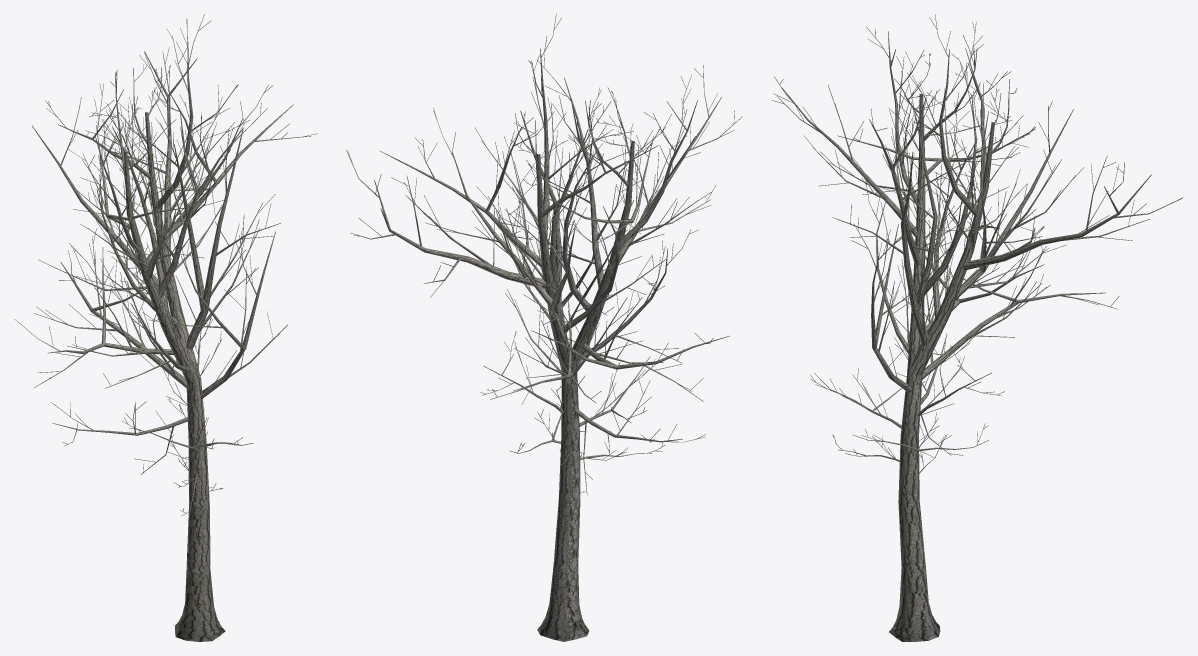
Rendered from tree_oakBare.glb.
The picture shows the model from 3 angles, left to right: view 1: azimuth 30°, elevation 25°; view 2: azimuth 150°, elevation 25°; view 3: azimuth 270°, elevation 25°; orthographic projection. The views are drawn at different scales.
Visible parts, largest first — view 1: plant; view 2: plant; view 3: plant.
Boxes of the visible parts, x1,y1,x2,y2 form: plant: (14,14,317,641); plant: (346,14,742,641); plant: (771,14,1183,641).
Size of the model in its own units: 7.49 by 14.35 by 8.69.
1 material, 1 textured.
